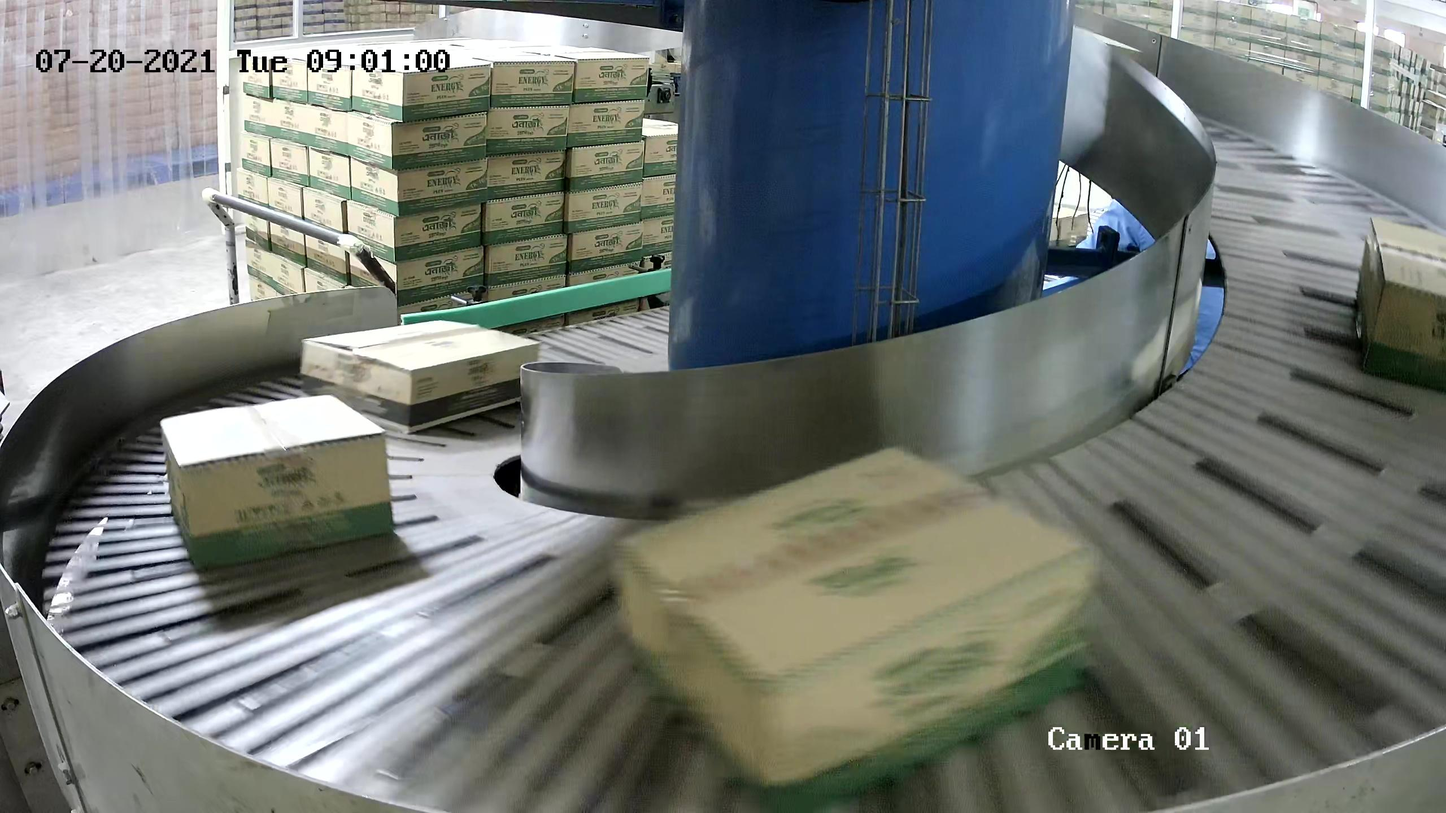Box: (606, 441, 1108, 813), (159, 391, 401, 570), (300, 319, 543, 434), (1355, 214, 1446, 398)
